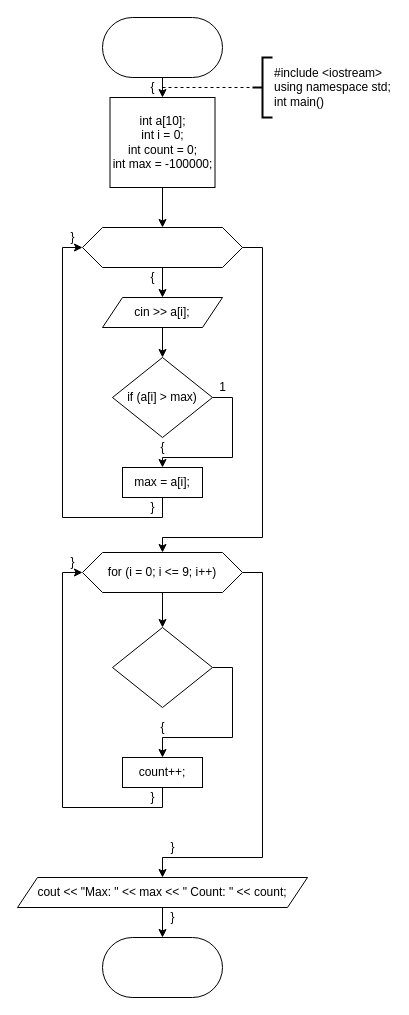
Some shapes in this 409 by 1015 pixel diagram are drawn without their labels. Each missing label, with the centre of its shape:
for (i = 1; i <= 9; i++): [162,247]
if (a[i] == max): [162,667]
Конец: [162,967]
Начало: [162,47]
